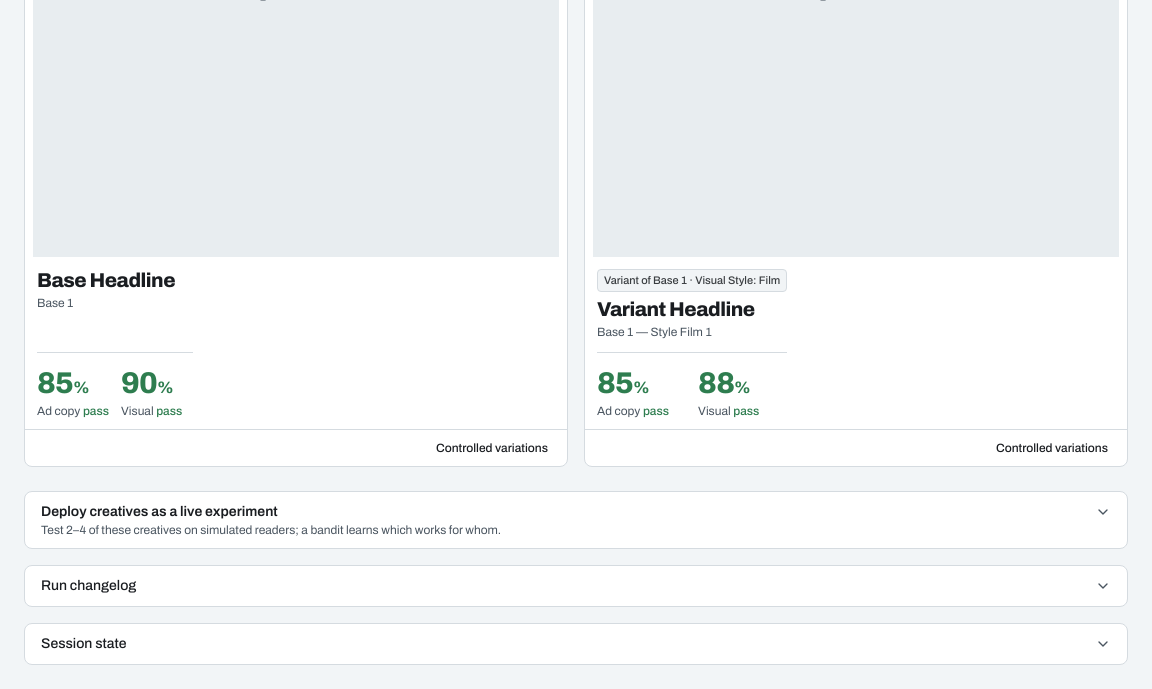
ResultsPage loadEval state fallback & GCS staleness guard › renders sess.state.creative_evaluation_report on load when GCS keys are absent
This screenshot has width=1152, height=689.
(page scrolled)
Expected: the heading "Variant Headline" is shown, 597,298 -> 755,320
# Open DeployDisclosure to verify DeployPanel also receives the hydrated eval scores
Step 1. Click the button "Deploy creatives as a live experiment" → (159, 511), box 25,492 -> 1127,522
(page scrolled)
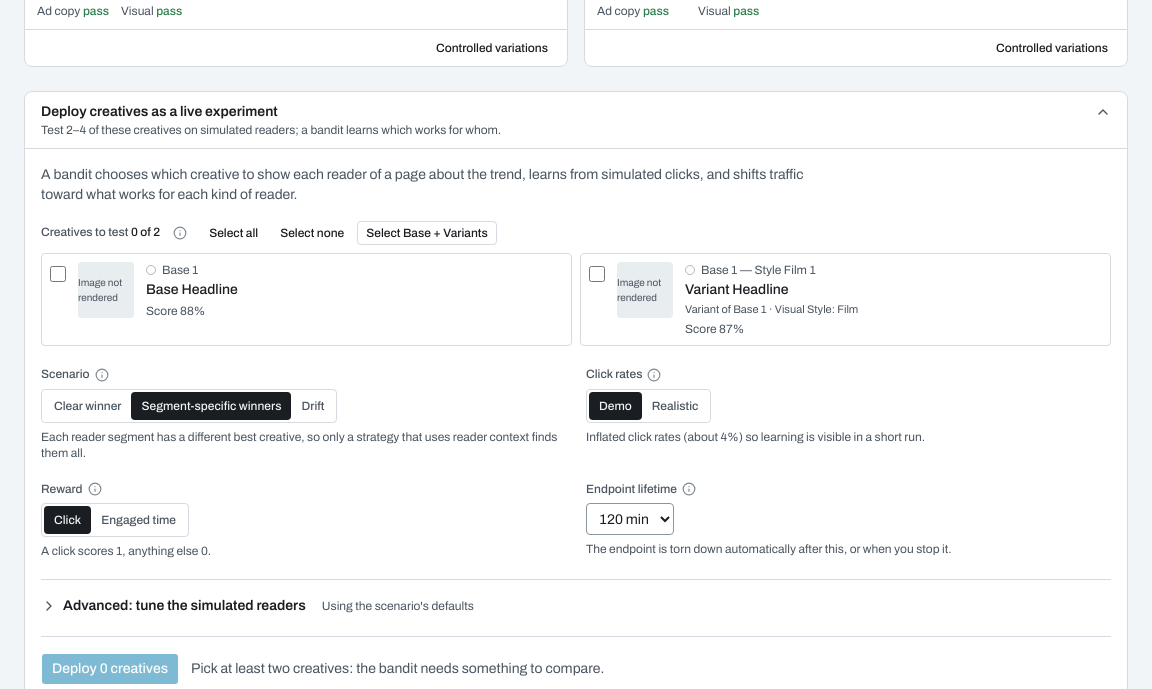
Now the text "Score 87%" is shown, box 685,322 -> 744,336
